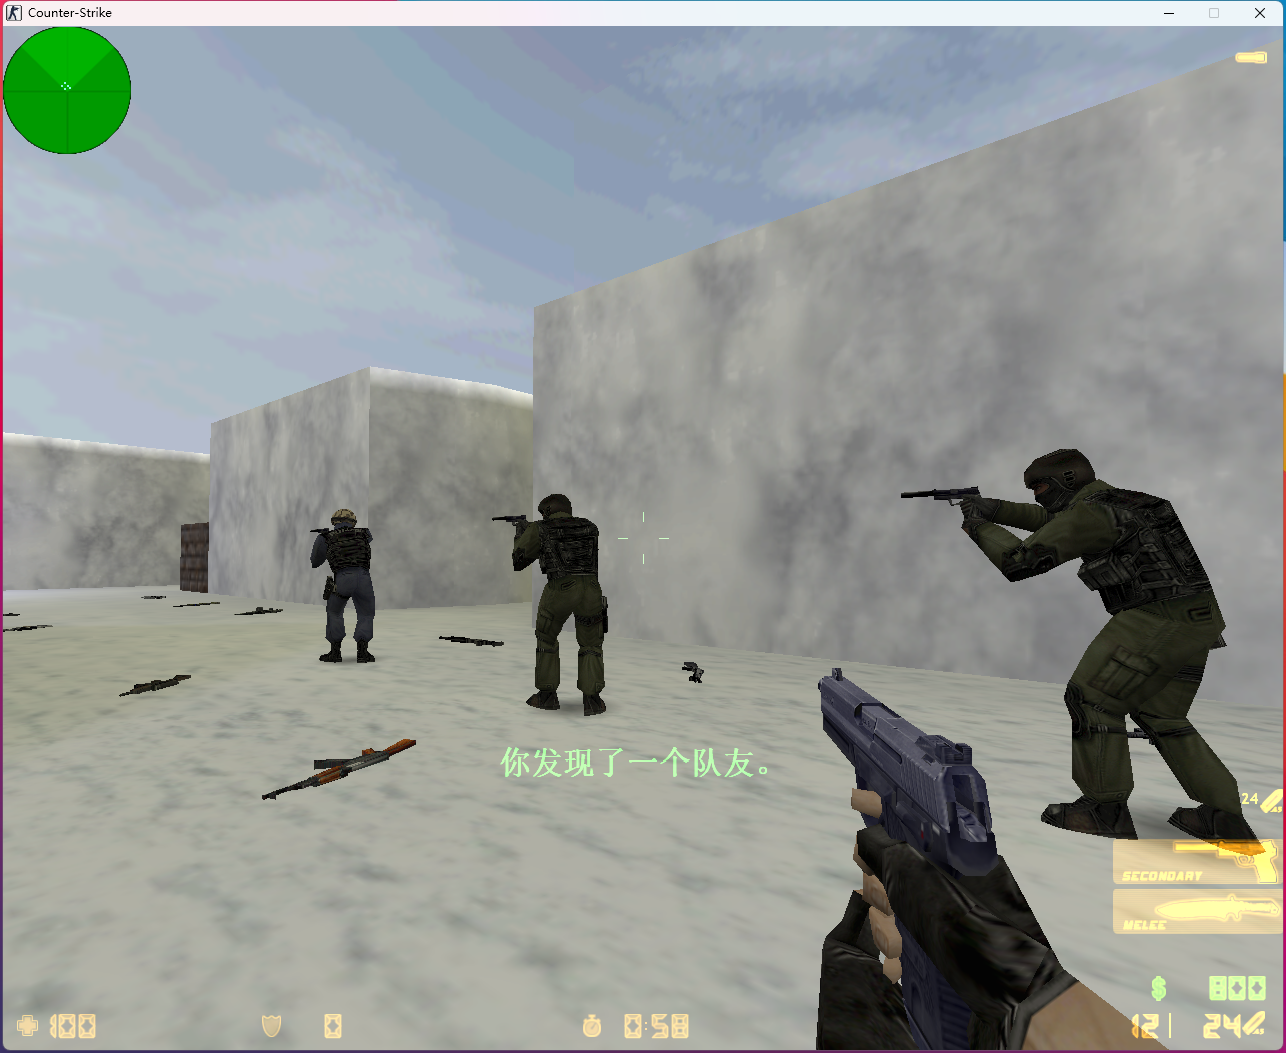C: (900, 446, 1267, 855), (491, 493, 609, 716), (308, 509, 377, 663)
weapon: (255, 738, 412, 798), (117, 671, 193, 700), (433, 632, 501, 648), (680, 654, 708, 682), (170, 597, 220, 611), (231, 606, 283, 618), (1, 622, 58, 632), (140, 592, 164, 601)
